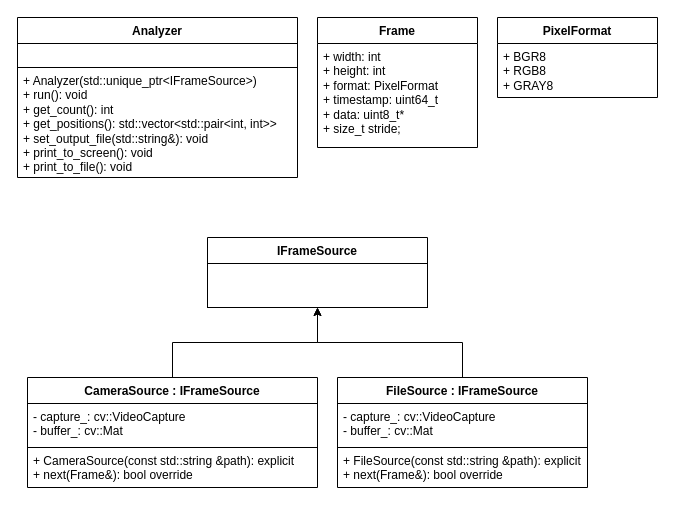
The diagram is 675 pixels wide and 508 high, and some of its shapes have lost their labels. The centre of each missing label's shape, as x and y in pixels:
+ ~IFrameSource(): virtual + next(Frame&): virtual bool: point 317,285
- input_feed_: IFrameSource: point 157,55
